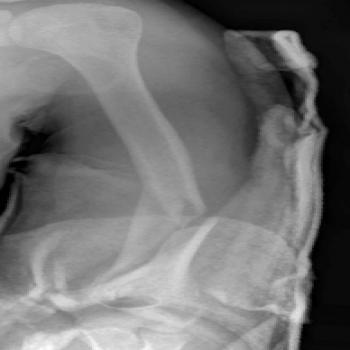Fracture: (133, 190, 239, 239)
